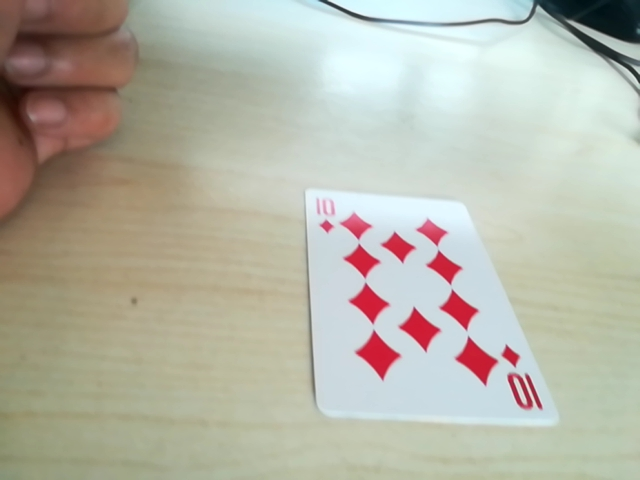fk 10: (500, 348, 544, 417), (309, 191, 352, 239)
